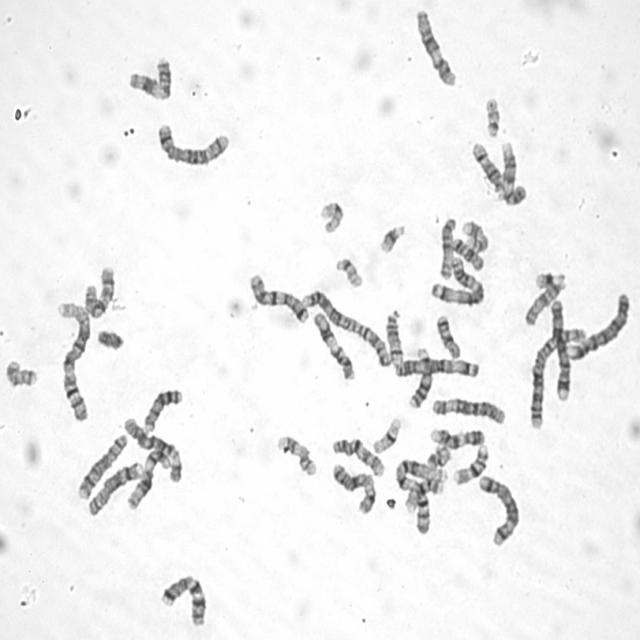A1: (54, 297, 92, 424), (392, 454, 434, 537)
A2: (298, 286, 394, 369), (526, 322, 588, 431)
A3: (427, 252, 487, 308), (391, 354, 481, 380)
B4: (563, 287, 631, 363), (546, 295, 572, 402)
B5: (154, 120, 230, 168), (475, 471, 521, 548)
C10: (328, 433, 387, 479), (80, 261, 116, 321)
C11: (309, 307, 357, 382), (124, 52, 173, 104)
C12: (412, 3, 458, 88), (124, 445, 172, 511)
C6: (120, 412, 183, 484), (428, 393, 507, 426)
C7: (246, 268, 310, 325), (156, 570, 208, 629)
C8: (74, 429, 129, 501), (84, 457, 143, 518)
C9: (496, 136, 527, 206), (426, 424, 486, 449)
D13: (140, 384, 184, 435), (405, 343, 435, 410)
D14: (468, 138, 504, 196), (382, 305, 405, 367)
D15: (521, 268, 567, 328), (436, 213, 458, 282)
E16: (450, 440, 490, 487), (402, 474, 446, 514)
E17: (274, 430, 318, 478), (459, 216, 490, 254)
E18: (433, 311, 462, 361), (448, 233, 485, 272)
F19: (369, 412, 403, 456), (317, 196, 345, 235)
F20: (2, 355, 39, 388), (424, 442, 451, 471)
G21: (375, 219, 408, 254), (531, 268, 565, 291)
G22: (332, 253, 363, 289), (481, 92, 502, 139)
X: (328, 459, 377, 516)
Y: (94, 324, 125, 352)
